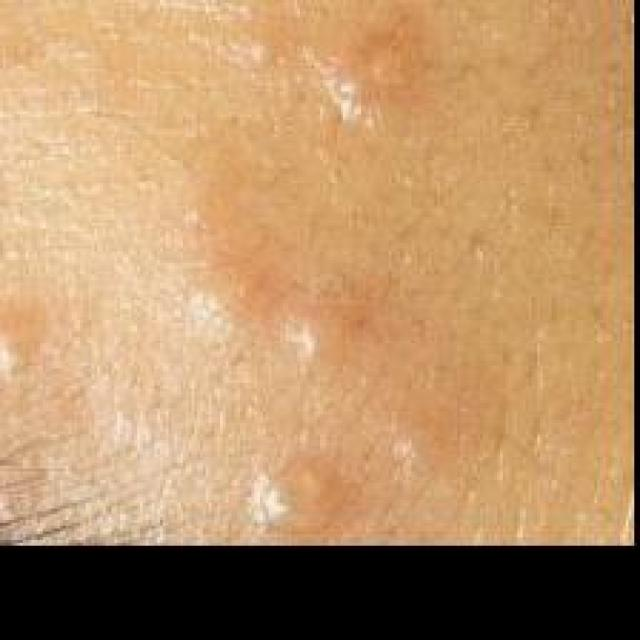others: (2, 0, 617, 534)
